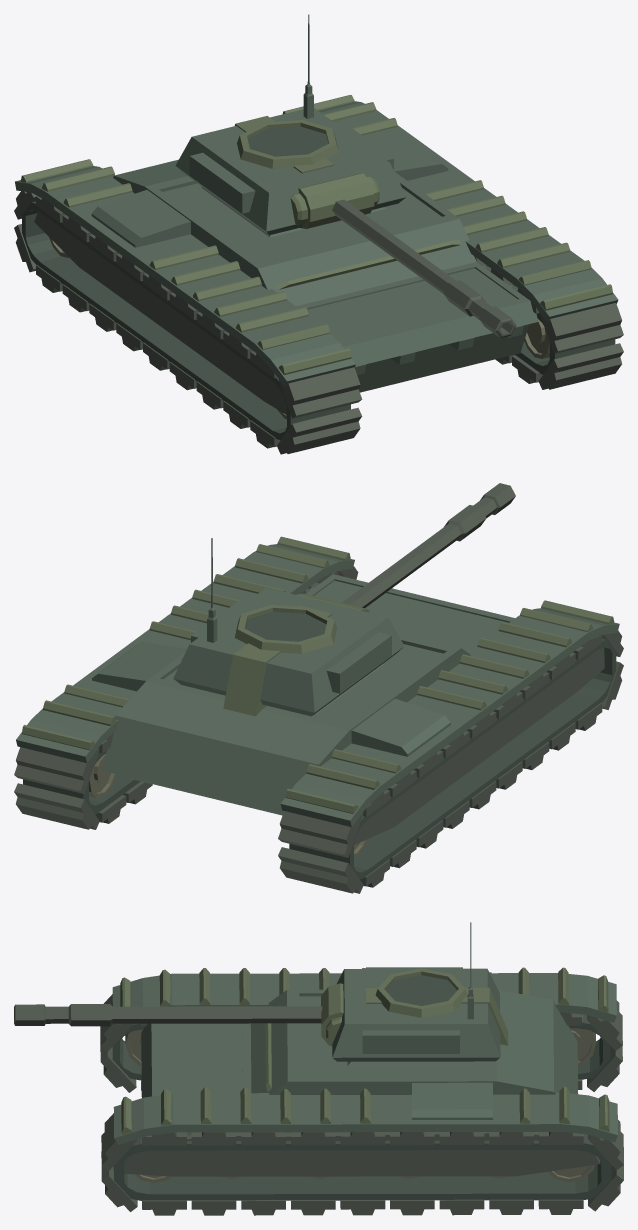
File: tank_baked.glb
3 renders of one model, top to bottom at view 1: azimuth 30°, elevation 25°; view 2: azimuth 150°, elevation 25°; view 3: azimuth 270°, elevation 25°, orthographic. The views are drawn at different scales.
Visible parts, largest first — view 1: hull, turret; view 2: hull, turret; view 3: hull, turret.
Part boxes in pixels (bbox=[...]): hull: bbox=[14, 95, 623, 454]; turret: bbox=[175, 14, 516, 337]; hull: bbox=[14, 536, 623, 893]; turret: bbox=[173, 483, 515, 716]; hull: bbox=[100, 967, 623, 1215]; turret: bbox=[14, 922, 508, 1065].
Bounding box in the file's own units: 2.47 × 1.82 × 4.19.
Materials: 1 (1 with a texture image).
